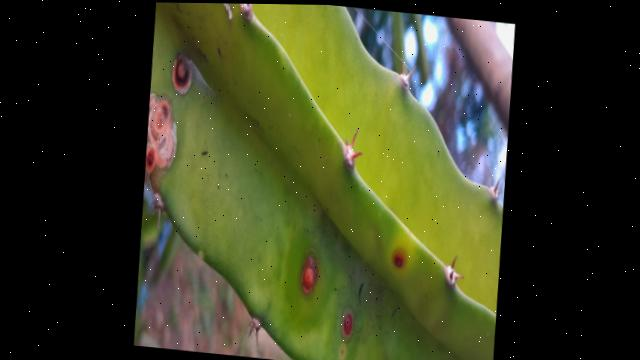stemcanker: (142, 91, 179, 183), (296, 248, 322, 302), (169, 52, 196, 98), (386, 244, 411, 278), (337, 307, 356, 344)
